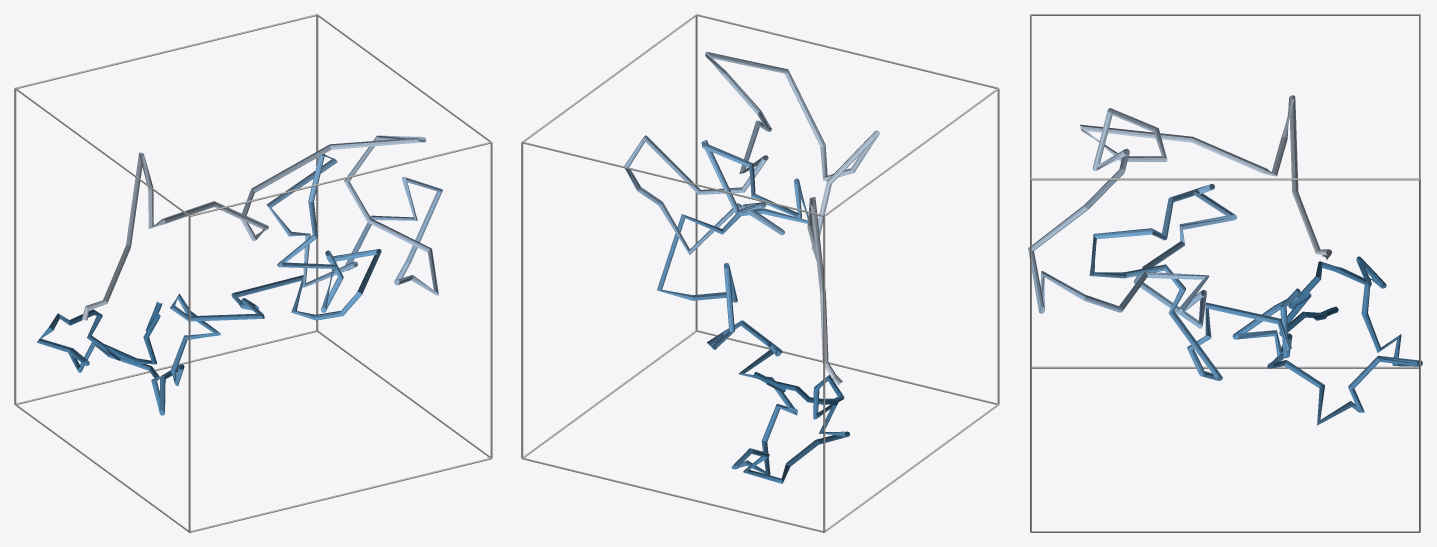
3 views of the same model, side by side, from view 1: azimuth 30°, elevation 25°; view 2: azimuth 150°, elevation 25°; view 3: azimuth 270°, elevation 25° (orthographic). The views are drawn at different scales.
Parts seen in each view (by area): view 1: geometry_0, geometry_1; view 2: geometry_0, geometry_1; view 3: geometry_0, geometry_1.
Part boxes in pixels (x1=…): geometry_0: x1=36, y1=135, x2=442, y2=415; geometry_1: x1=14, y1=14, x2=492, y2=532; geometry_0: x1=624, y1=51, x2=879, y2=483; geometry_1: x1=521, y1=14, x2=999, y2=532; geometry_0: x1=1028, y1=95, x2=1422, y2=425; geometry_1: x1=1030, y1=14, x2=1420, y2=532.
Bounding box in the file's own units: 0.3043 × 0.3045 × 0.3045.
